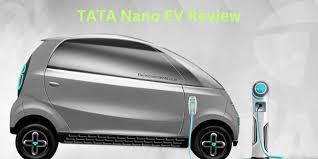Nano: (9, 35, 241, 159)
